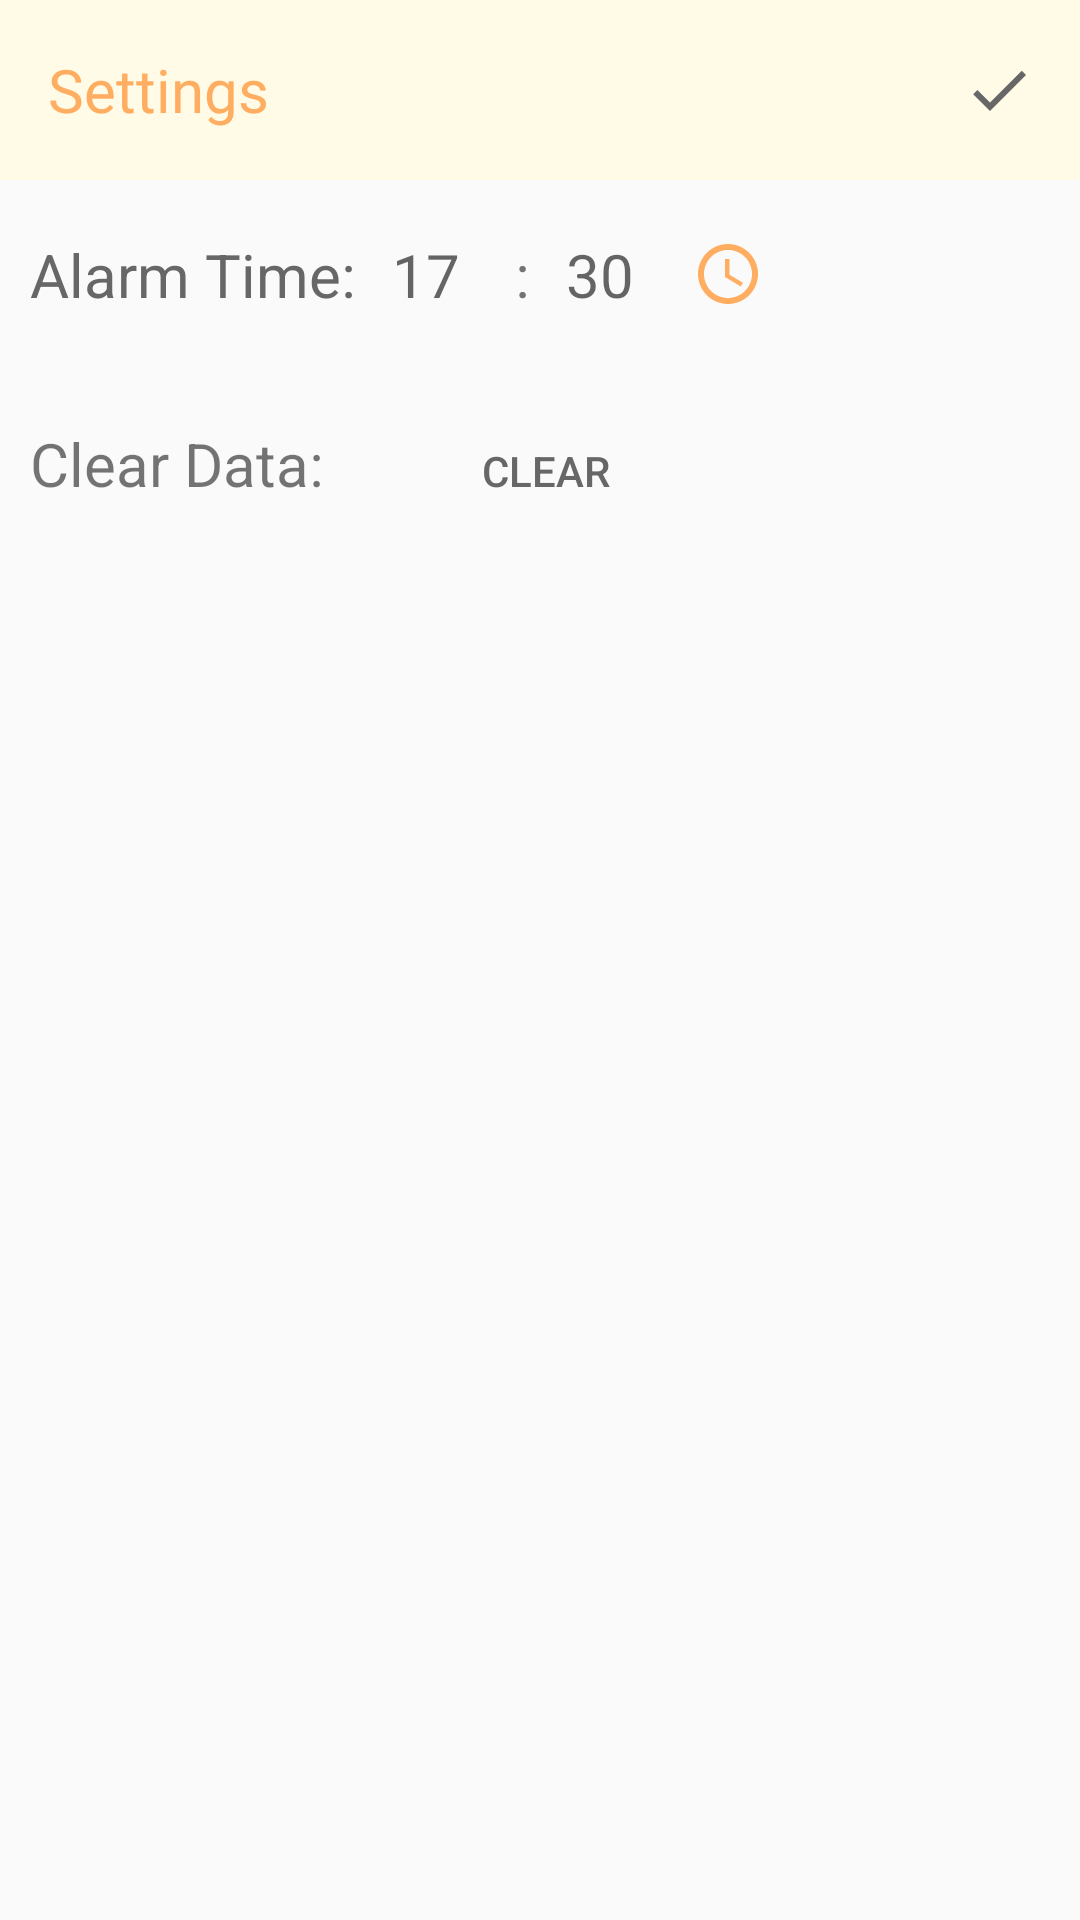

Named icons in this screenshot (1080×1920) and their bounding boxes, (left=x1, top=y1, right=x2, bottom=y2):
access time: (left=698, top=244, right=758, bottom=304)
done: (left=973, top=71, right=1026, bottom=111)
